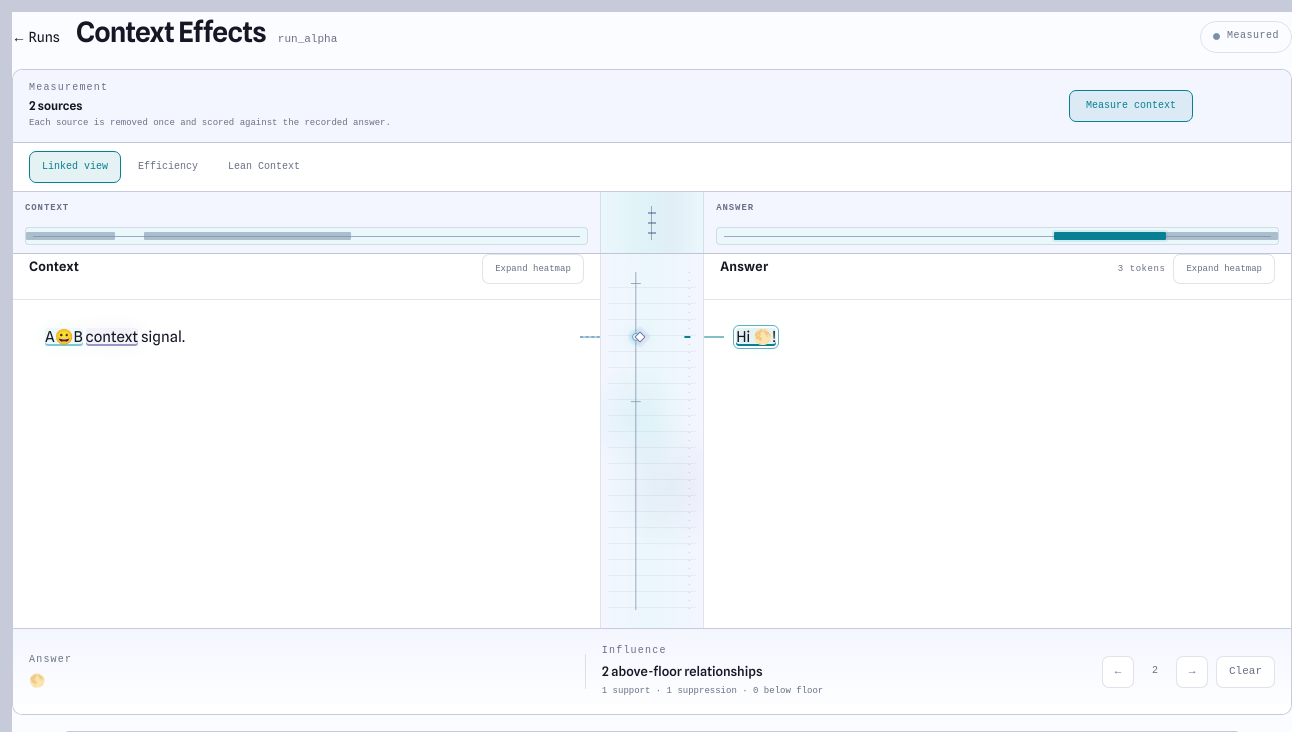
Inspect surface › lets expanded hover preview a different span while a click selection remains pinned
Expected: the text "2 above-floor relationships" is shown, [602,663,763,679]
Click the button "Expand heatmap" next to "3 tokens".
click(1224, 269)  # box [1173,254,1275,284]
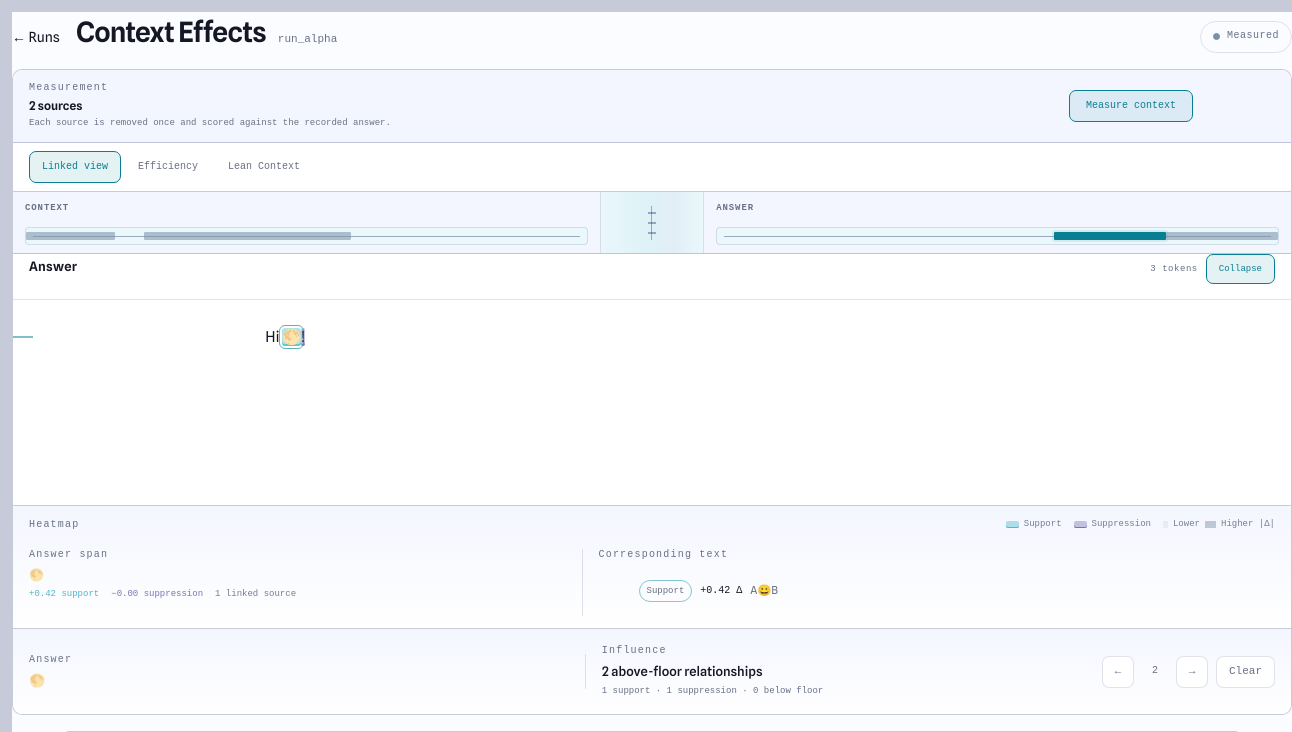
Hover over the button named "!; 1 measured relationship".
mouse_move(303, 337)  # box [301,328,305,346]
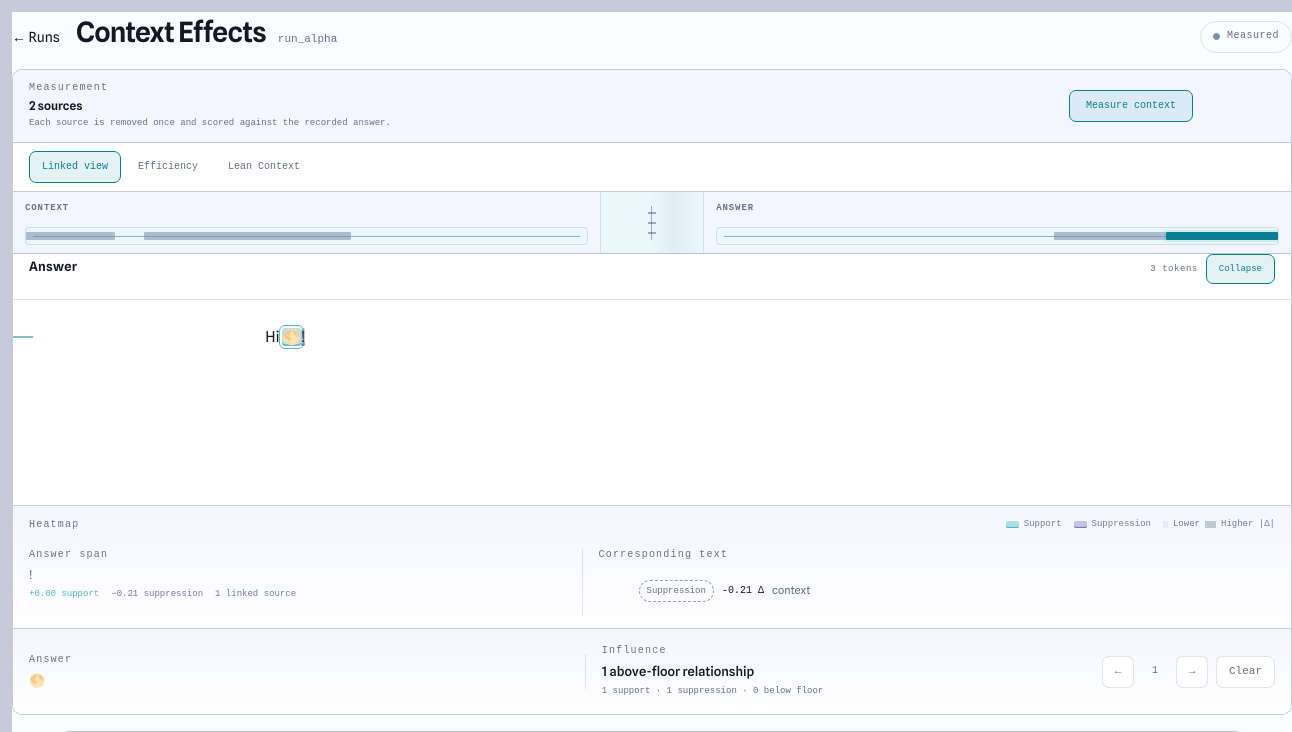
Expected: the text "!" is shown, [29,567,32,582]
Move the pointer off the button named "!; 1 measured relationship", box [301,328,305,346]
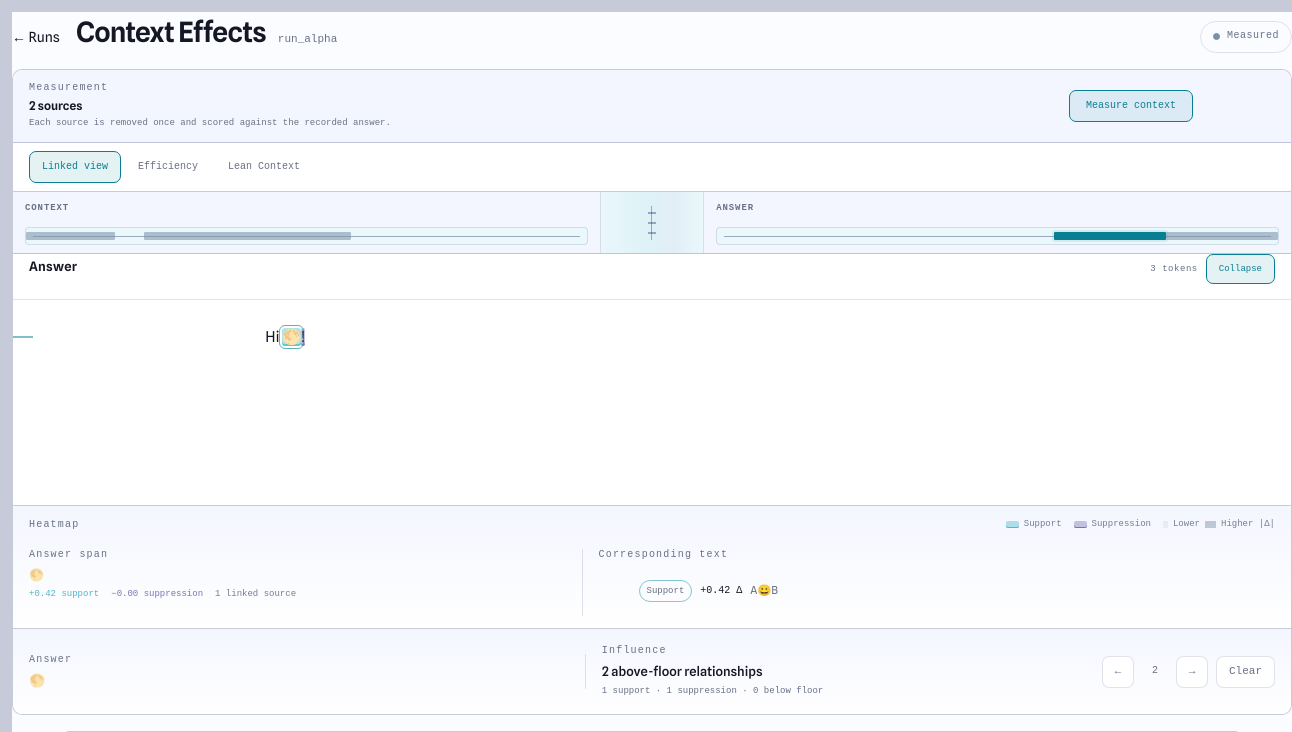
Expected: the text "🌕" below "Answer span" is shown, [29,567,44,582]
